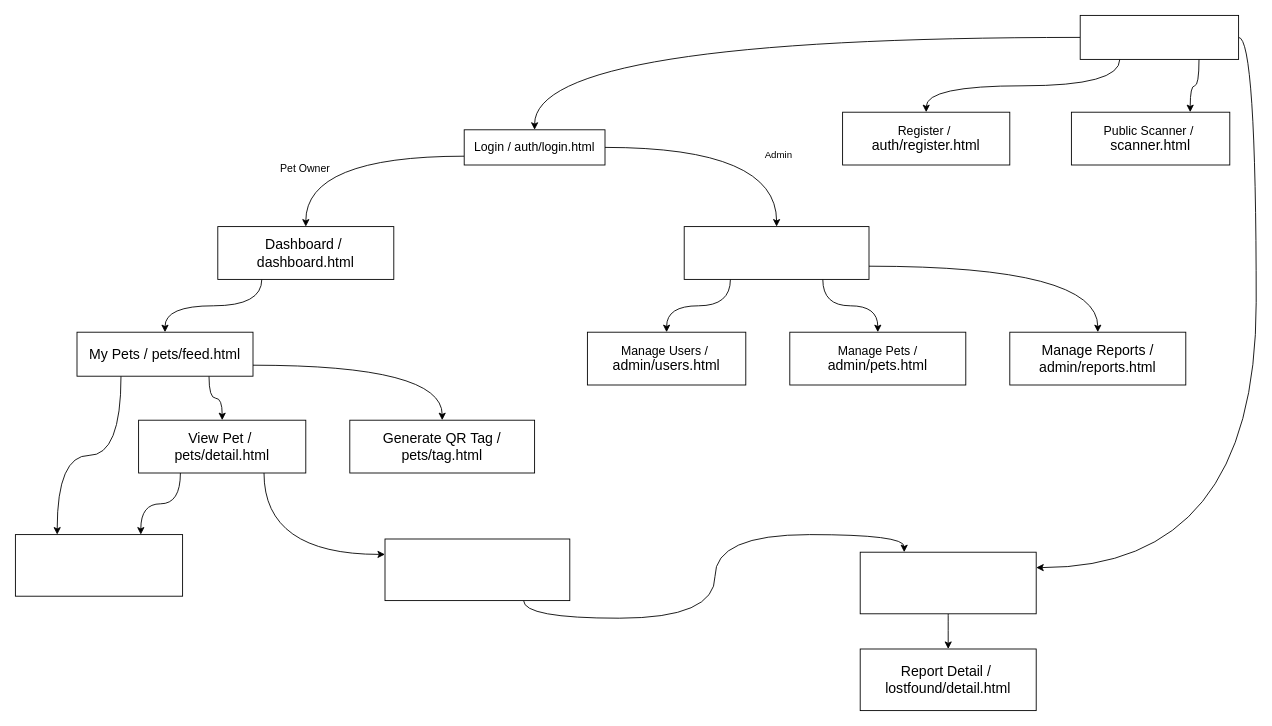
This 1272x726 diagram has some shape labels left out. The centre of each missing label's shape, as x and y in pixels:
"Add/Edit Pet / pets/form.html" belongs at [99,565].
"Admin Dashboard / admin/users.html" belongs at [776,252].
"Home/ index.html" belongs at [1159,37].
"Lost & Found Feed / lostfound/index.html" belongs at [947,582].
"Report Lost/Found / lostfound/form.html" belongs at [477,569].
